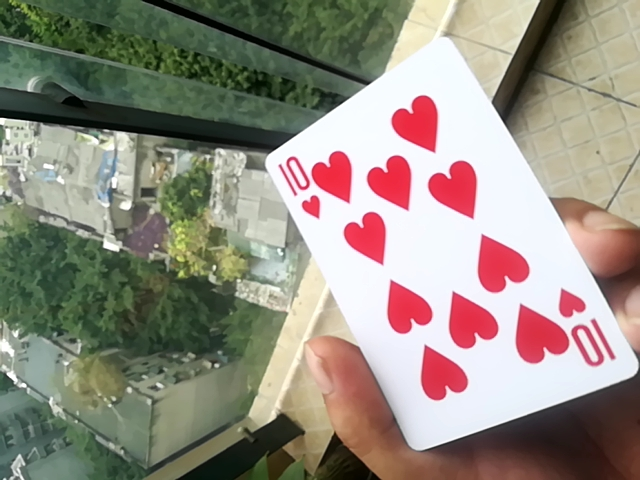hx 10: (263, 38, 637, 455)
